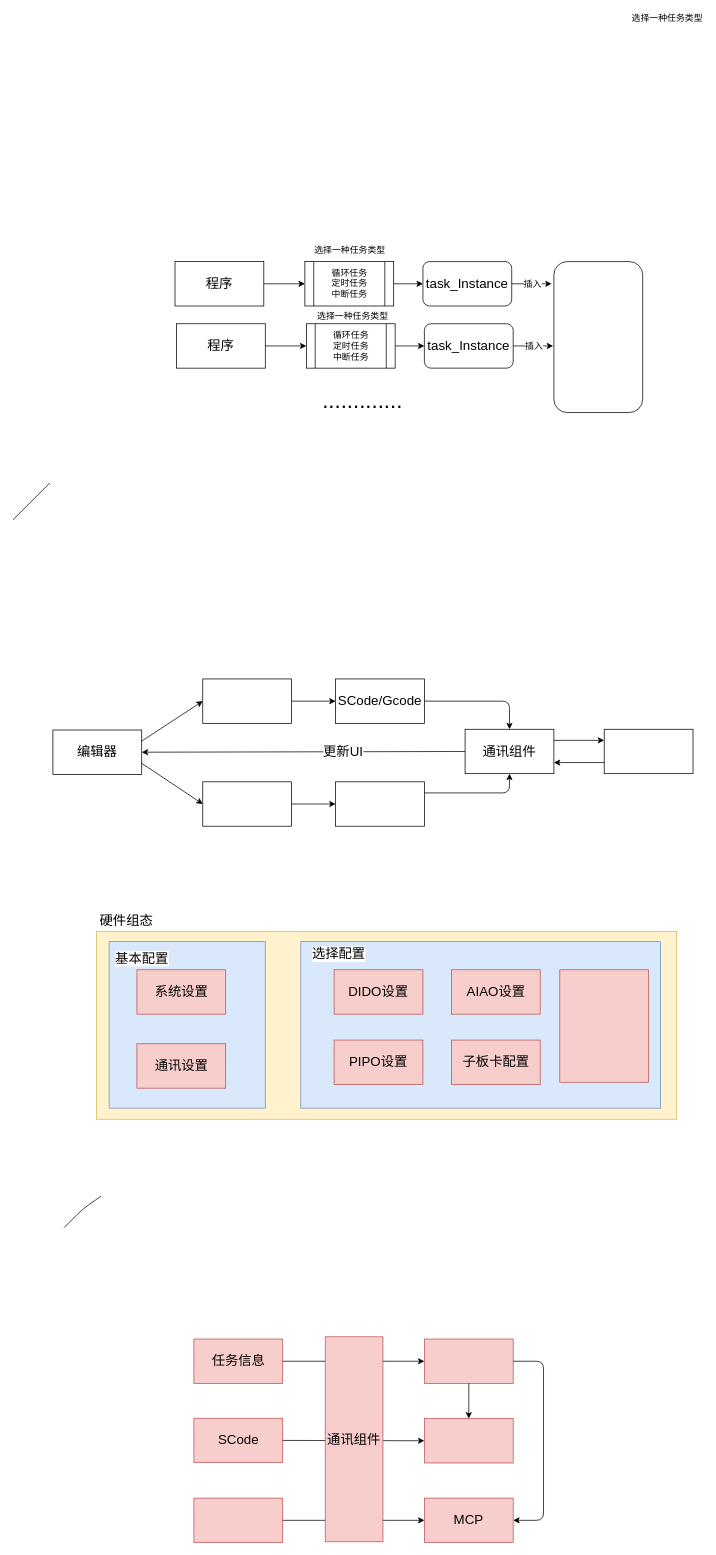
Image size: 716x1555. Some labels were removed from this diagram. The shapes that lost their labels are listed below. From the top down, each one's centre as x and y in pixels, then its label:
the point at 598,337: task_List
the point at 247,700: 断点设置信息
the point at 648,751: Runtime
the point at 247,803: 变量设置信息
the point at 379,803: 变量表
the point at 604,1025: 诊断项
the point at 468,1360: CMU
the point at 468,1440: LCP
the point at 238,1520: GCode
